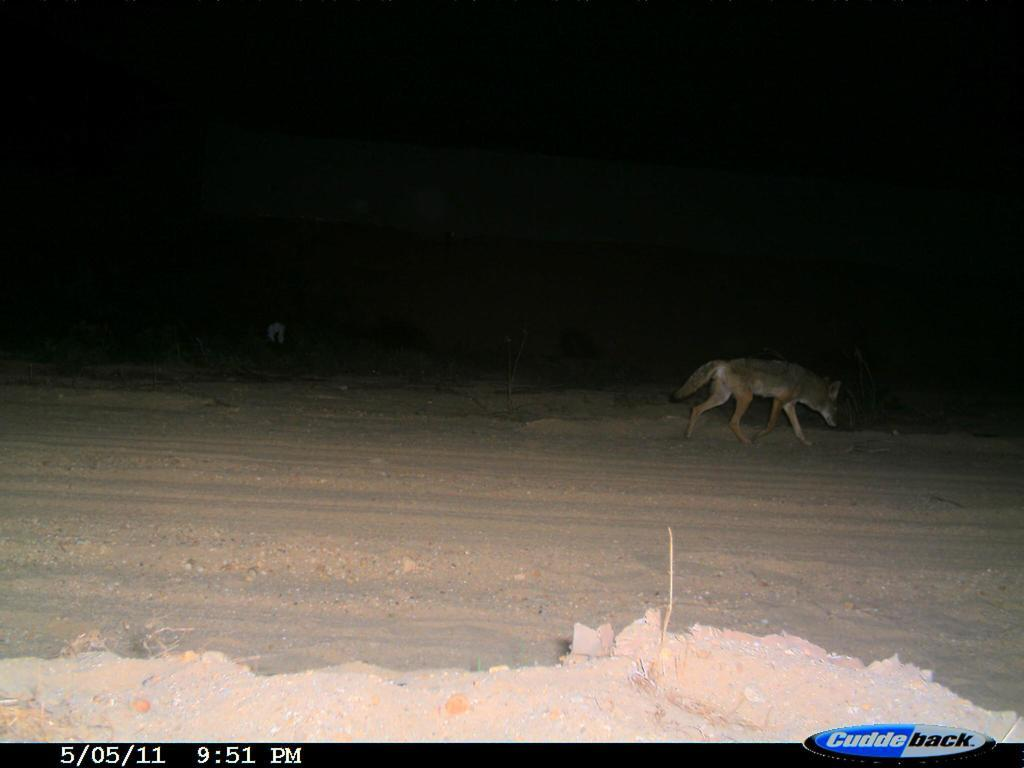coyote: (665, 351, 850, 457)
